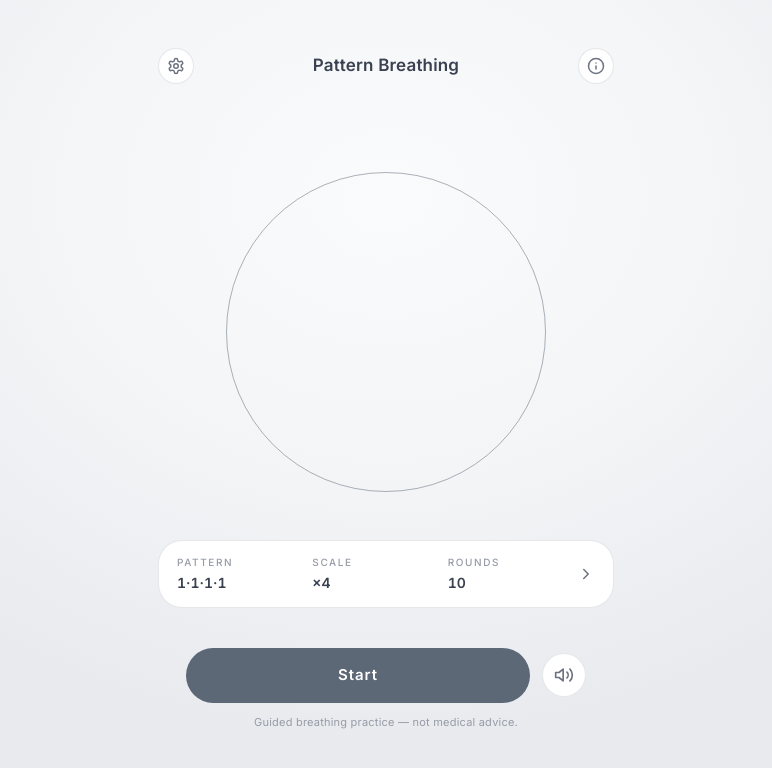
Test: App — audio cues (Phase 3) › shows lead-in numeral 3 in the orb after Start session click
Click the button "Start" at (358, 675), box [186,648,530,702]
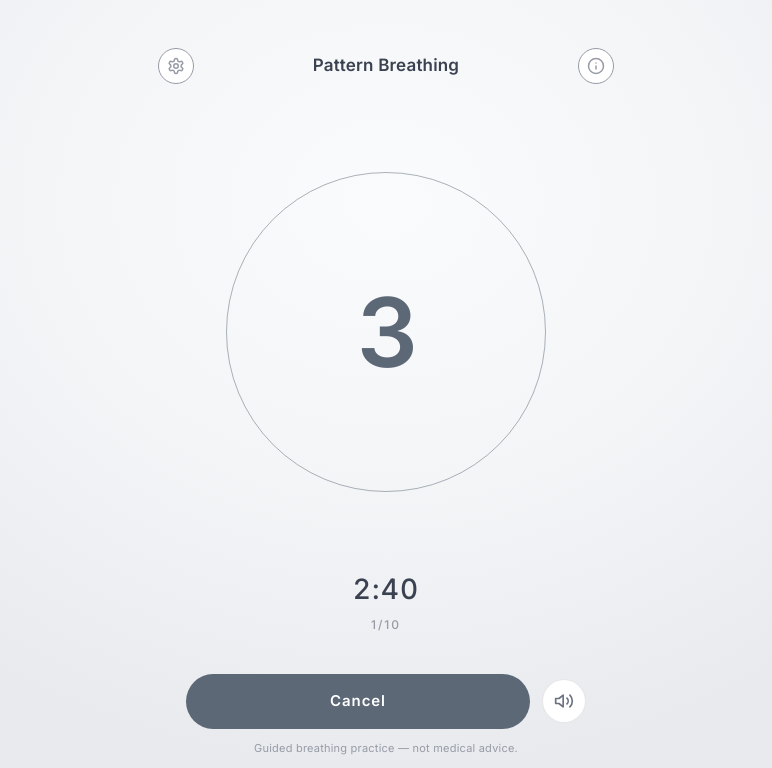
Check: the picture named "Lead-in 3" is shown, box [226,172,546,492]
Check: the text "3" is shown, box [357,284,415,380]
